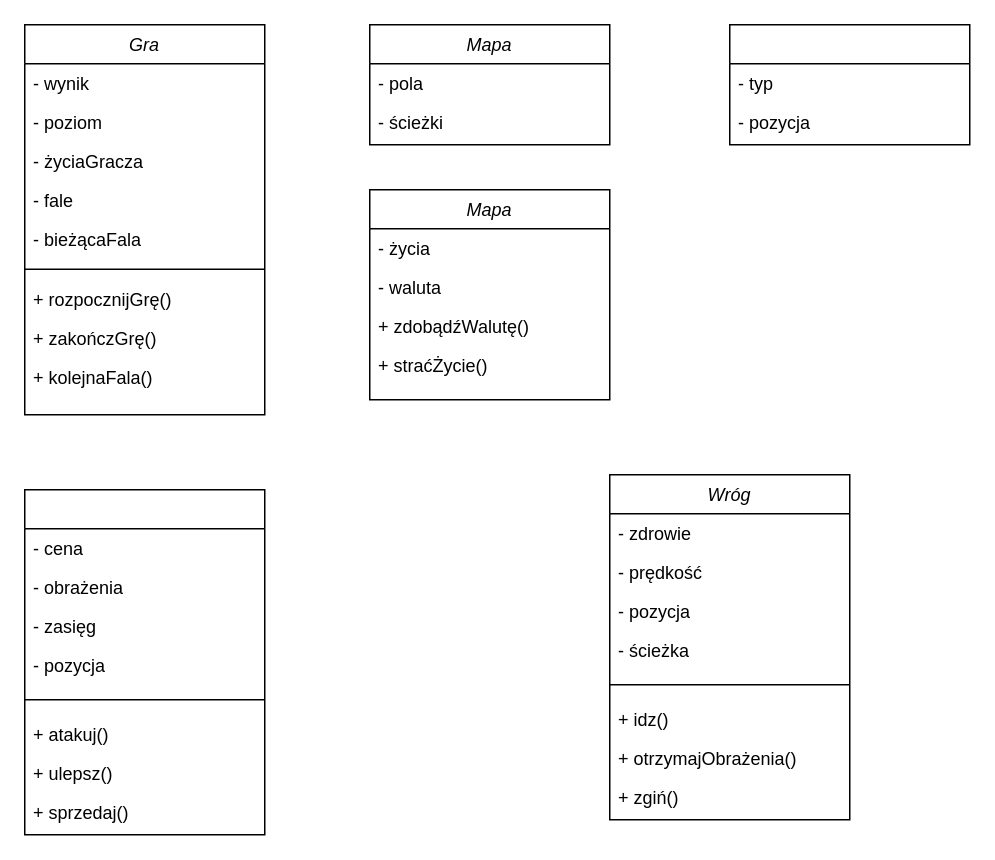
Some shapes in this 995 by 860 pixel diagram are drawn without their labels. The shapes that lost their labels are listed below. From the top down, each one's box as (x1, y1, x2, y2) in pixels, then its label:
(728, 23, 970, 145): Pole
(23, 488, 265, 835): Wieża
